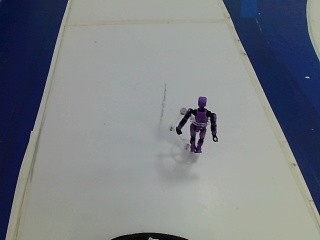pedestrian: (176, 93, 221, 156)
